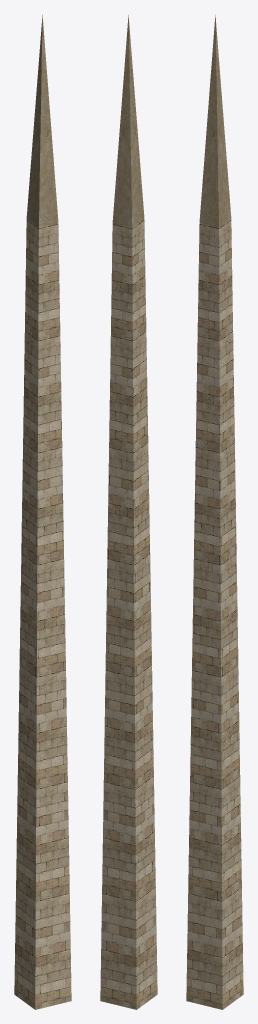
The model's file is thm_nboo_thed_imprv_obelisk_s02_l1.fbx.
3 renders of one model, left to right at view 1: azimuth 30°, elevation 25°; view 2: azimuth 150°, elevation 25°; view 3: azimuth 330°, elevation 25°, orthographic.
Visible parts, largest first — view 1: mesh_node; view 2: mesh_node; view 3: mesh_node.
Part boxes in pixels (bbox=[...]): mesh_node: bbox=[14, 15, 71, 1009]; mesh_node: bbox=[100, 15, 157, 1009]; mesh_node: bbox=[186, 15, 243, 1009].
Bounding box in the file's own units: 0.8536 × 22.09 × 0.8536.
